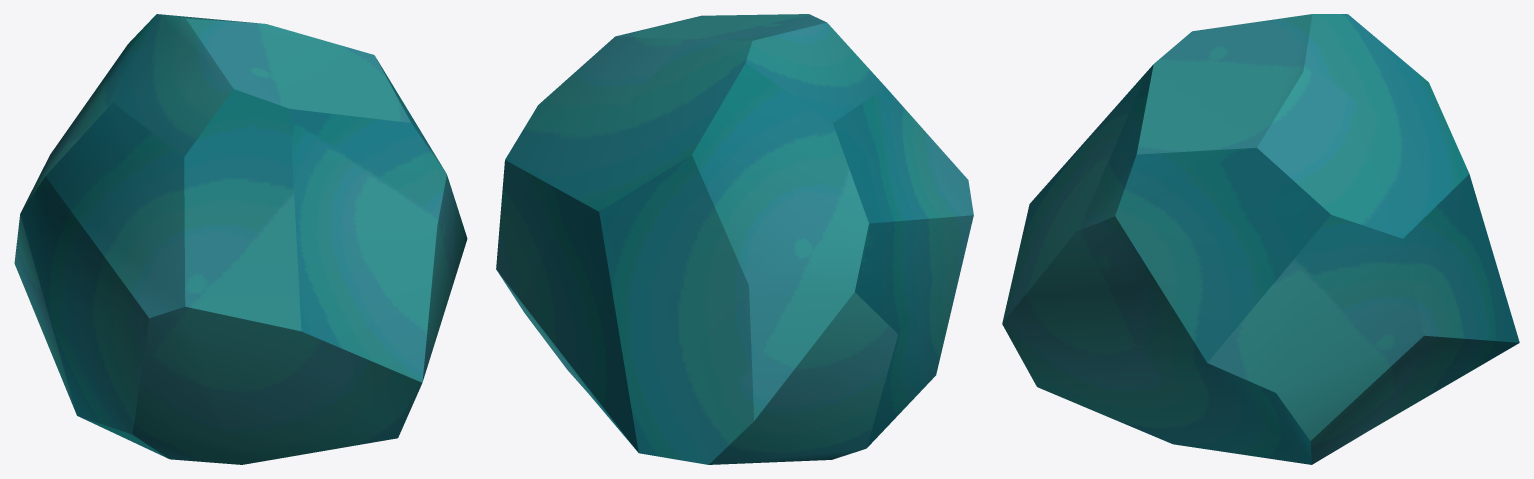
The model's file is Rock1.FBX.
The picture shows the model from 3 angles, left to right: view 1: azimuth 30°, elevation 25°; view 2: azimuth 150°, elevation 25°; view 3: azimuth 270°, elevation 25°; orthographic projection. The views are drawn at different scales.
Visible parts, largest first — view 1: Rock_2_Big; view 2: Rock_2_Big; view 3: Rock_2_Big.
Part boxes in pixels (bbox=[...]): Rock_2_Big: bbox=[14, 14, 467, 464]; Rock_2_Big: bbox=[496, 14, 973, 464]; Rock_2_Big: bbox=[1002, 14, 1519, 464].
Bounding box in the file's own units: 131 × 124 × 152.
